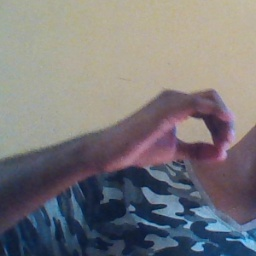O: (119, 79, 235, 173)
